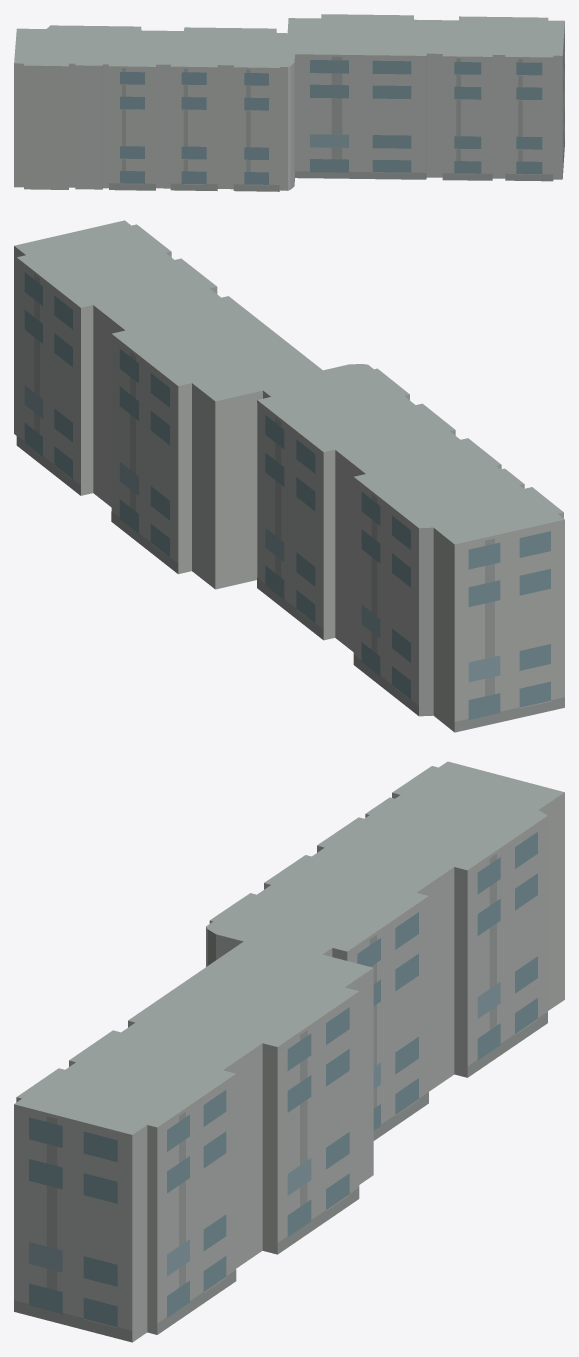
Rendered from survey-upis-32772184.glb.
3 views of the same model, one above another, from view 1: azimuth 30°, elevation 25°; view 2: azimuth 150°, elevation 25°; view 3: azimuth 270°, elevation 25° (orthographic). The views are drawn at different scales.
Visible parts, largest first — view 1: survey-upis-32772184.tmp; view 2: survey-upis-32772184.tmp; view 3: survey-upis-32772184.tmp.
Part boxes in pixels (box(x1,y1,x2,y2)): survey-upis-32772184.tmp: box(14, 14, 564, 191); survey-upis-32772184.tmp: box(14, 220, 564, 732); survey-upis-32772184.tmp: box(14, 761, 564, 1342).
Bounding box in the file's own units: 58.88 × 15.25 × 36.69.
